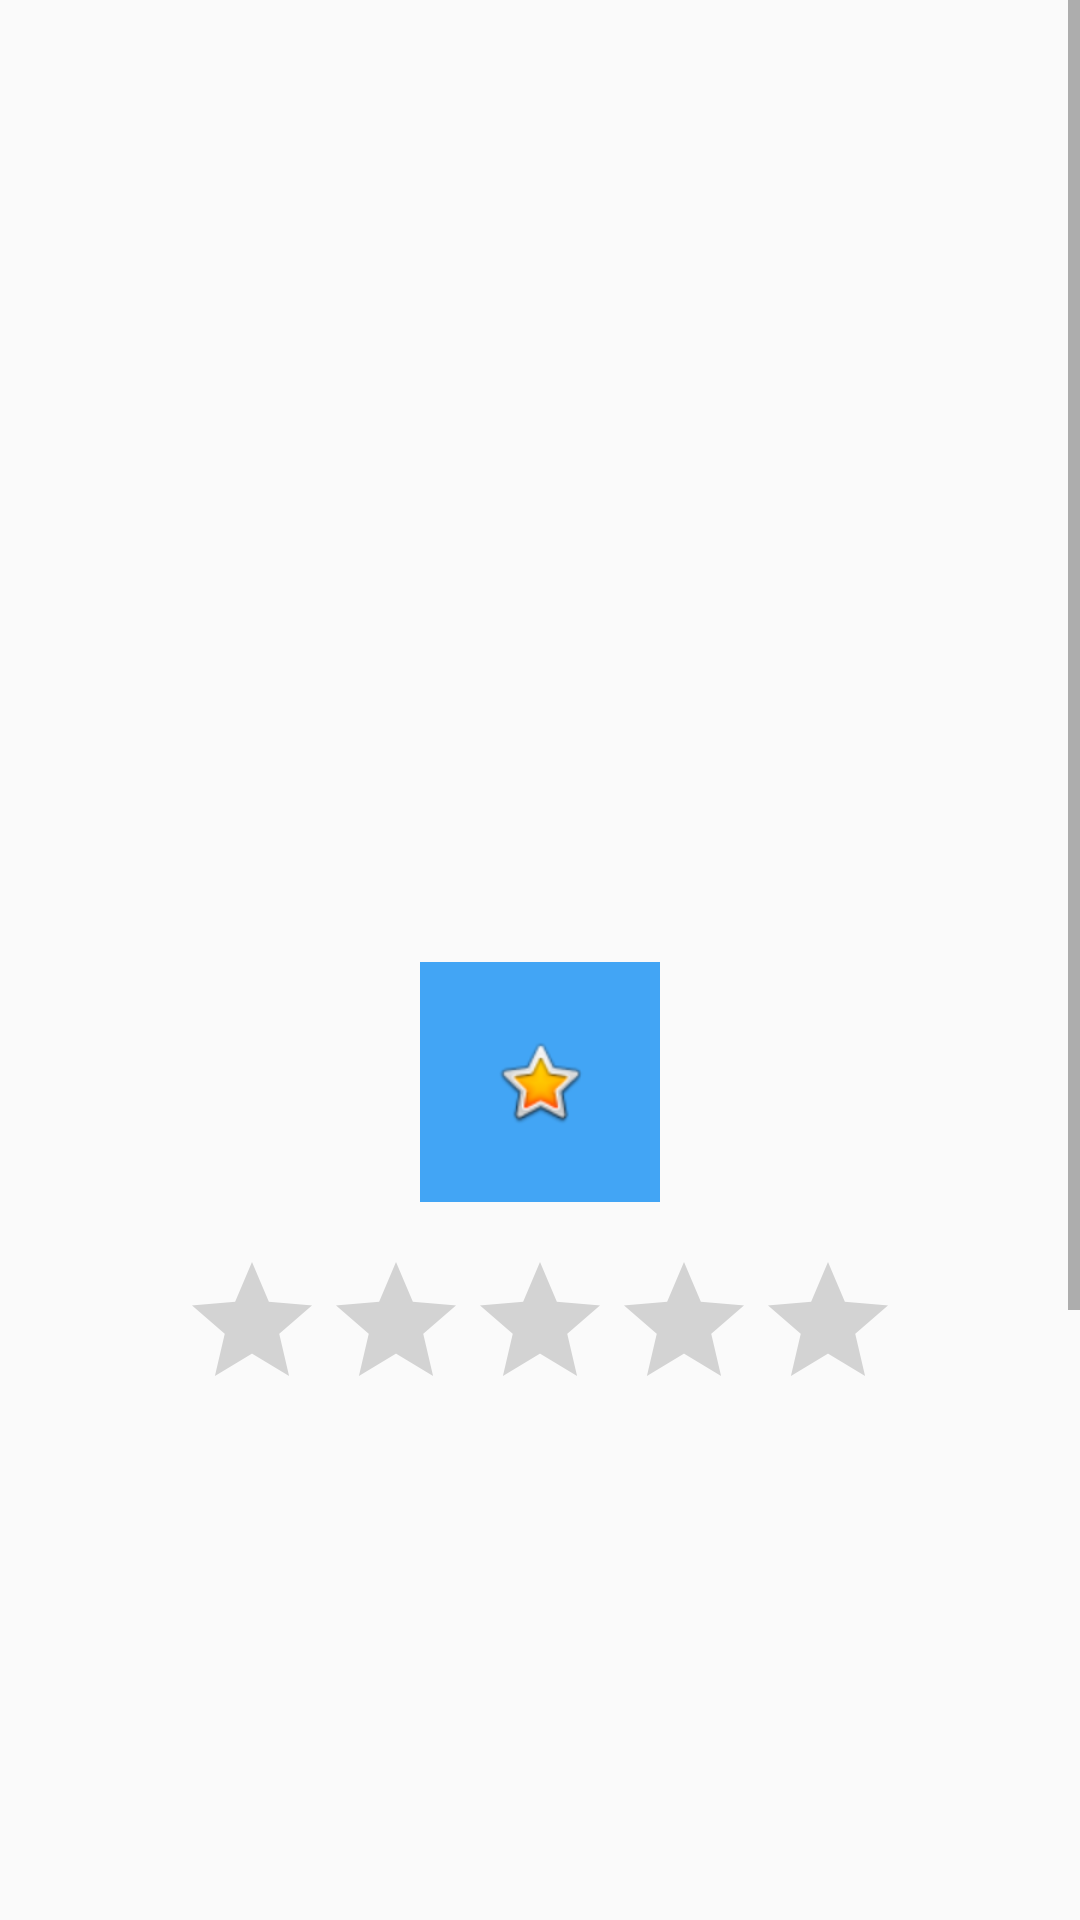

Point at icon controls on the screen. Image size 1080px x 1920px, points as (x=x, y=y).
star on: (x=541, y=1083)
